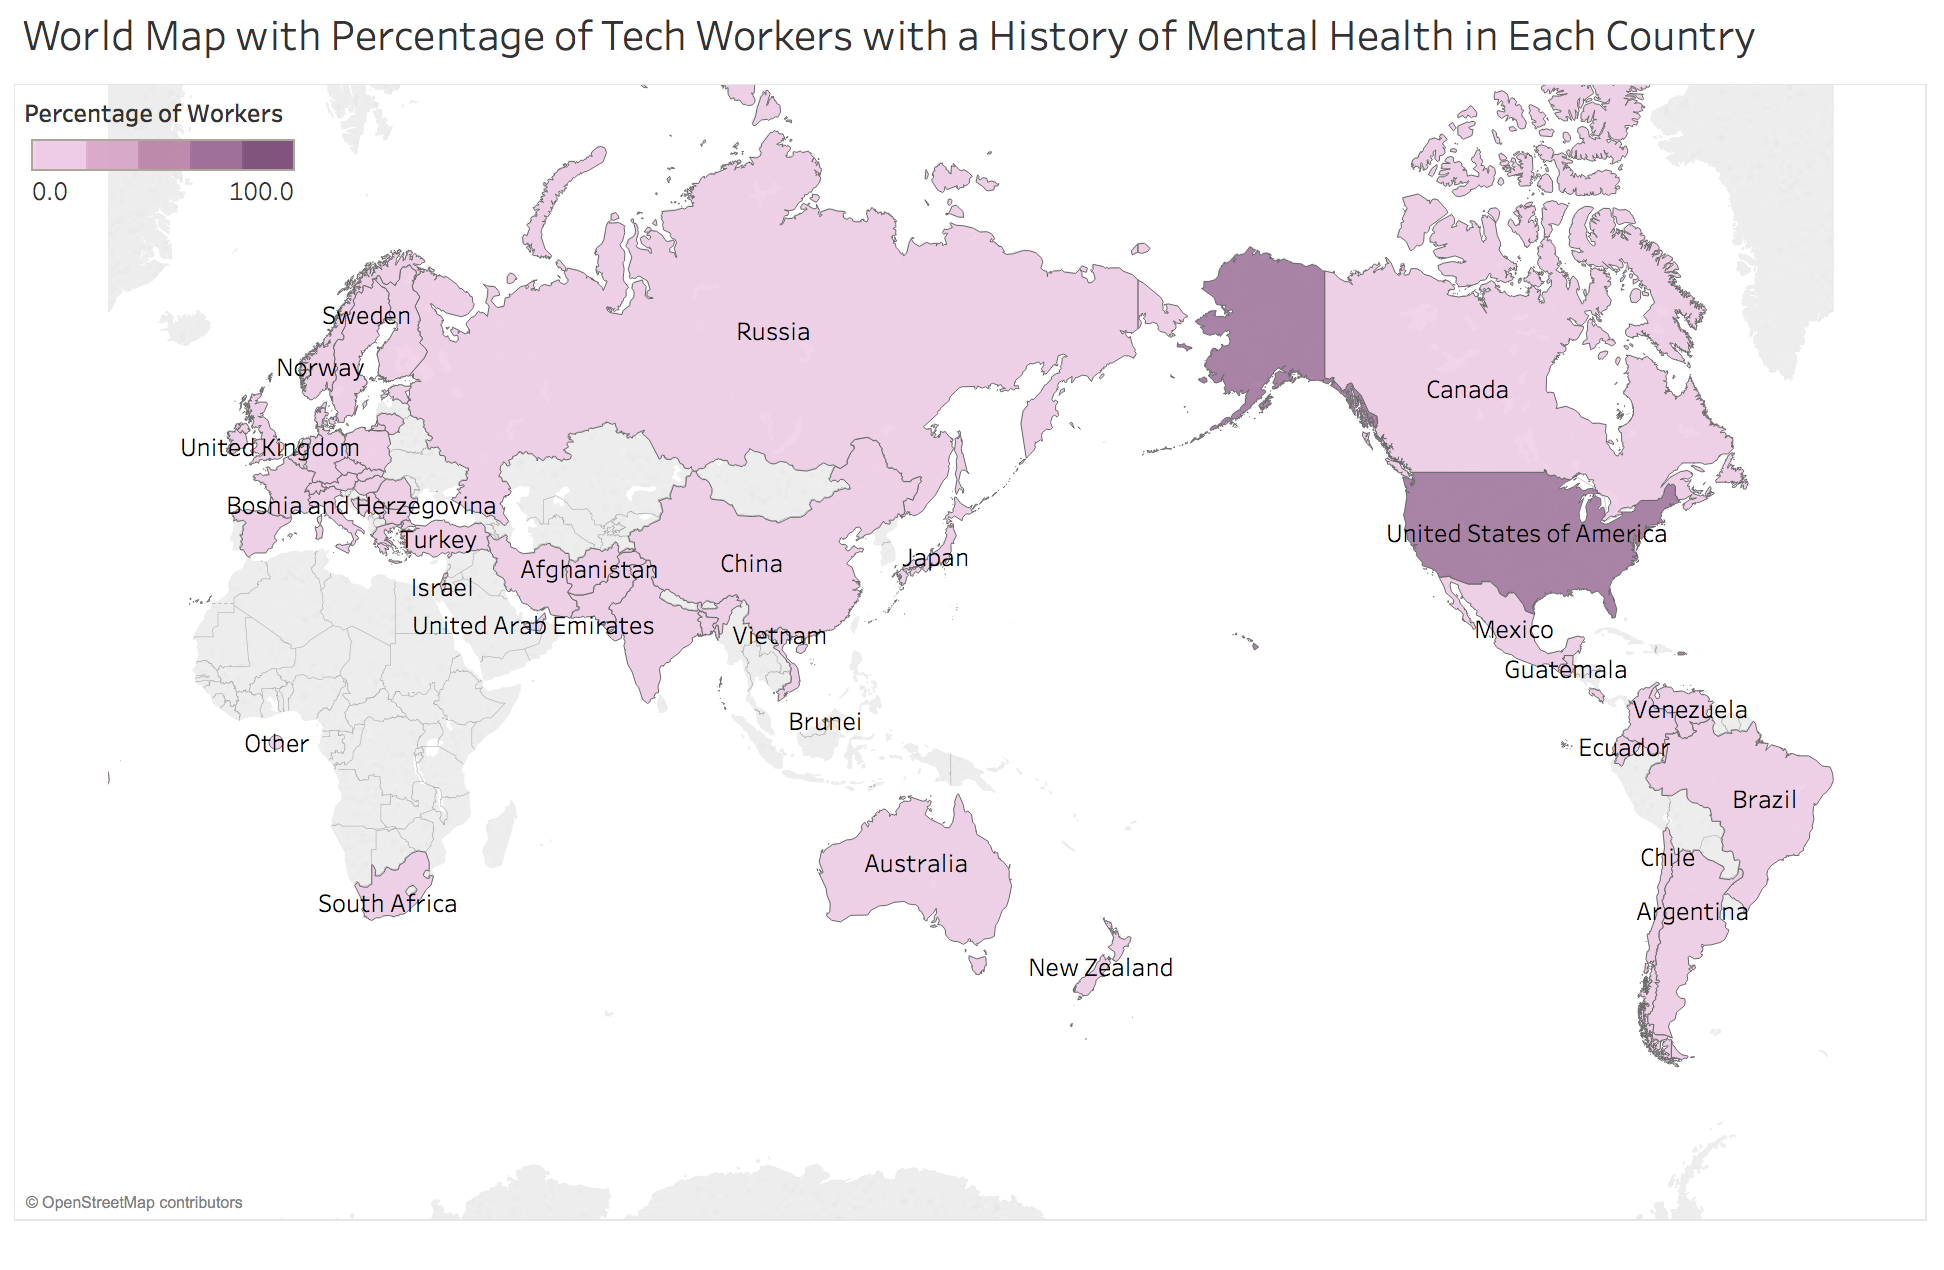

This screenshot's page, from the dashboard's own definition file:
{"tool":"tableau","page":{"name":"Dashboard 1","canvas":[1000,800],"ordinal":0},"visuals":[{"type":"worksheet","title":"Sheet 4","mark":"Automatic","box":[8,8,824,784]},{"type":"legend","title":"Sheet 4","param":"[federated.0pt2vkq0hfuvb31849lue0dyv85i].[sum:prevalence:qk]","box":[832,8,160,65]}]}

Visuals, with their boxes on the page's 1000x800 design canvas (x1, y1, x2, y2). These are canvas units, not pixel positions in the 1944x1270 screenshot, which may show the page scaled, cropped or inside an application window:
"Sheet 4" worksheet: crop(8, 8, 832, 792)
"Sheet 4" legend: crop(832, 8, 992, 73)
